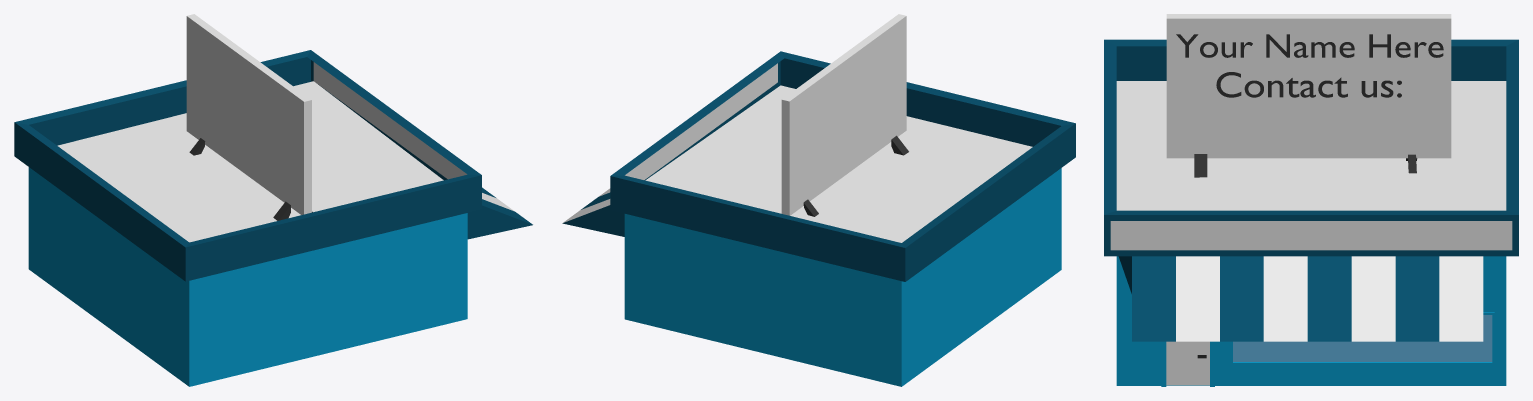
Rendered from blue Shop 2.fbx.
3 views of the same model, side by side, from view 1: azimuth 30°, elevation 25°; view 2: azimuth 150°, elevation 25°; view 3: azimuth 270°, elevation 25° (orthographic). The views are drawn at different scales.
Visible parts, largest first — view 1: Cube.001; view 2: Cube.001; view 3: Cube.001.
Boxes of the visible parts, x1,y1,x2,y2 form: Cube.001: (14, 14, 532, 386); Cube.001: (562, 14, 1075, 386); Cube.001: (1104, 14, 1518, 386).
Size of the model in its own units: 258 by 163 by 213.
